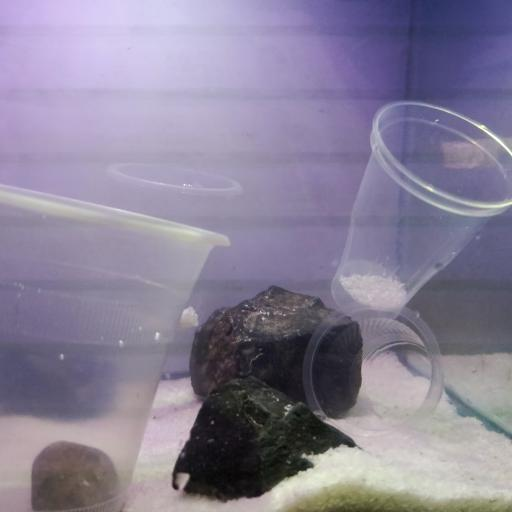plastic_cup: (0, 181, 233, 512), (329, 99, 512, 328), (108, 160, 236, 335), (302, 298, 445, 448)
